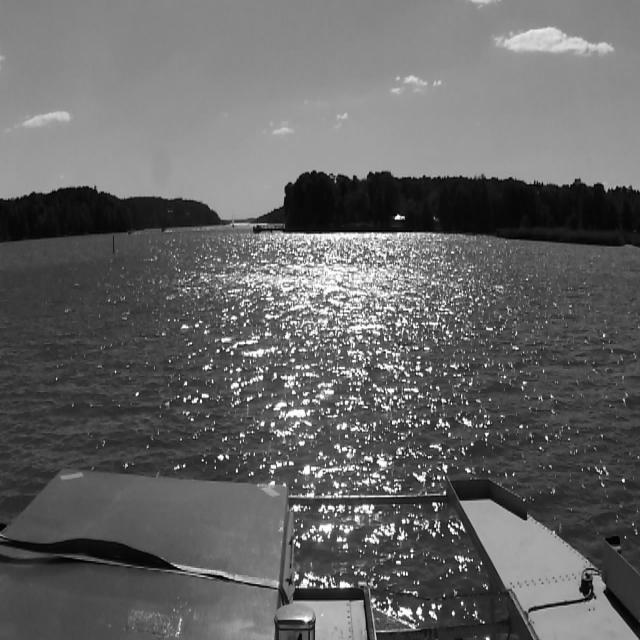buoy: (111, 233, 115, 256)
ship: (126, 226, 136, 238), (159, 224, 167, 235)
